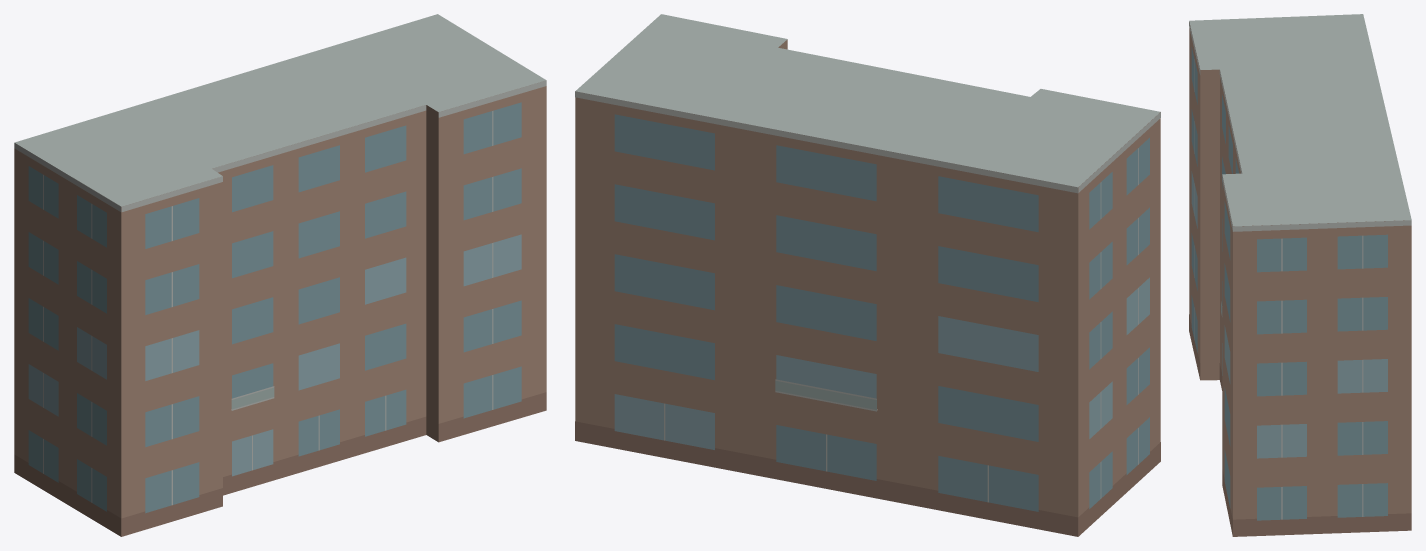
Rendered from survey-upis-32720341.glb.
The picture shows the model from 3 angles, left to right: view 1: azimuth 30°, elevation 25°; view 2: azimuth 150°, elevation 25°; view 3: azimuth 270°, elevation 25°; orthographic projection. The views are drawn at different scales.
Visible parts, largest first — view 1: survey-upis-32720341.tmp; view 2: survey-upis-32720341.tmp; view 3: survey-upis-32720341.tmp.
Boxes of the visible parts, box(x1,y1,x2,y2) form: survey-upis-32720341.tmp: box(14, 14, 546, 536); survey-upis-32720341.tmp: box(575, 14, 1160, 536); survey-upis-32720341.tmp: box(1189, 14, 1411, 536).
Bounding box in the file's own units: 20.73 × 14.12 × 9.19.
